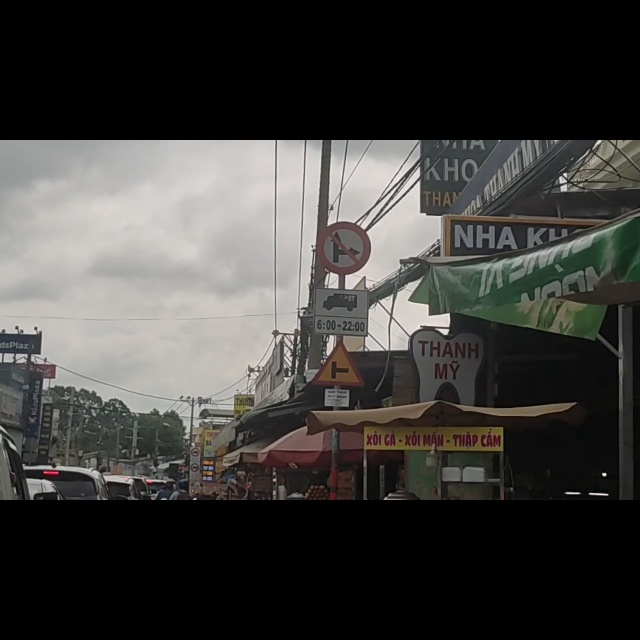bien_nguy_hiem: (317, 142, 370, 238), (314, 264, 369, 348), (315, 358, 365, 437)
